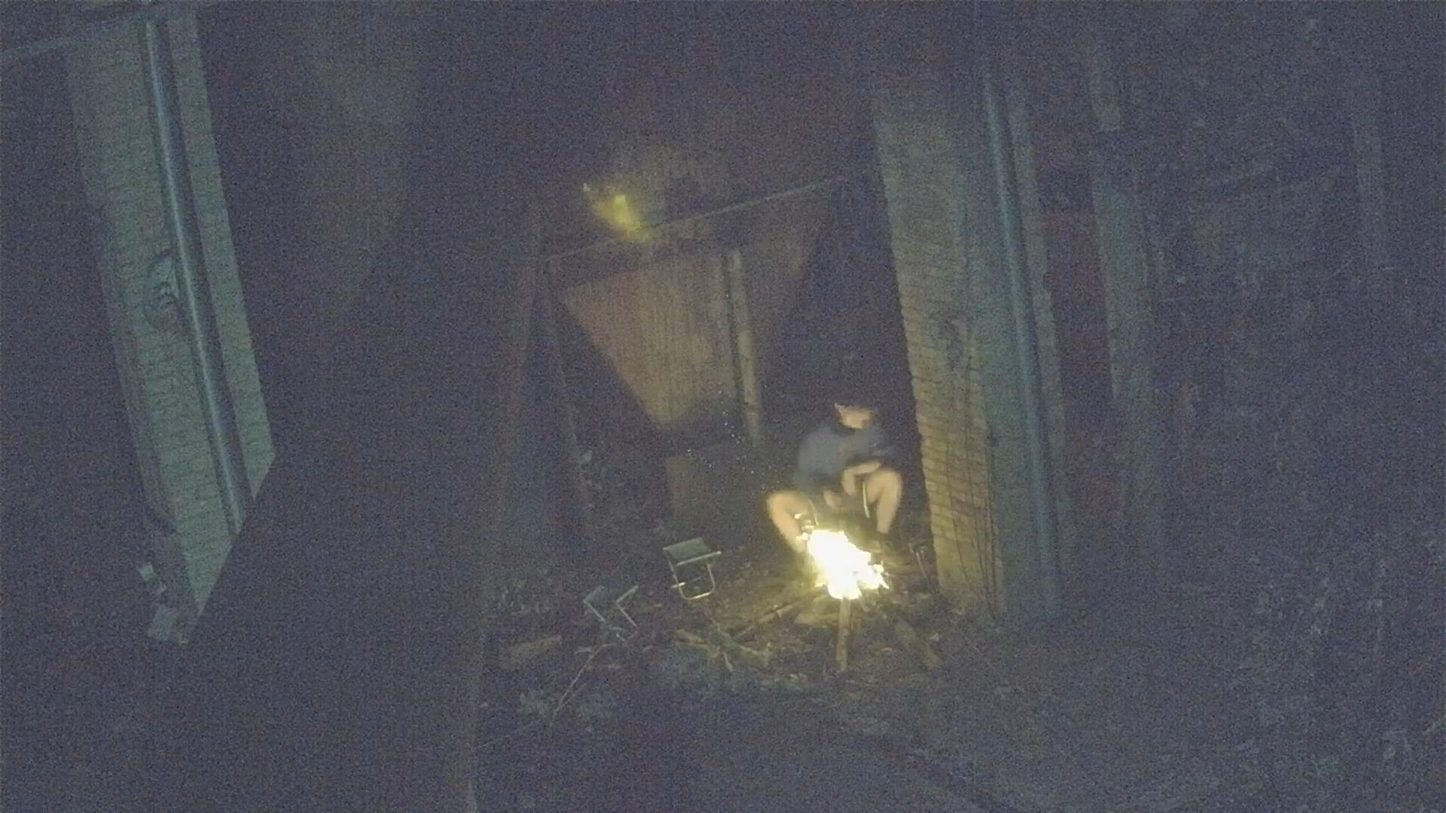fire: (804, 529, 885, 601)
